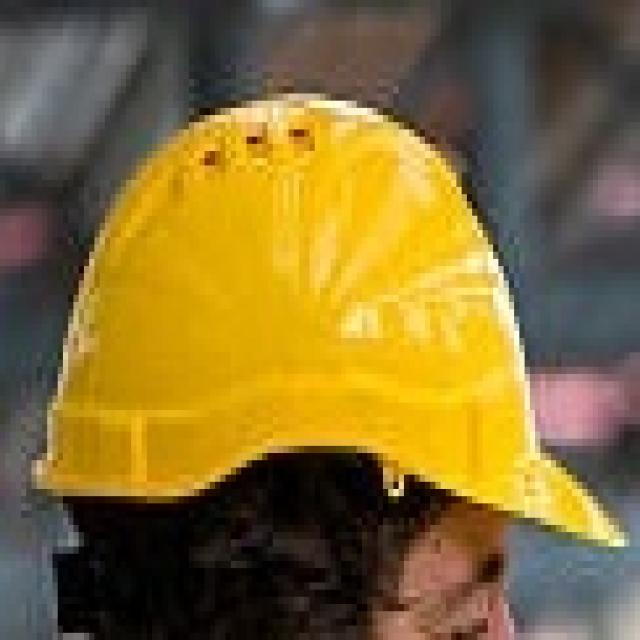helmet_yellow: (2, 4, 638, 636)
